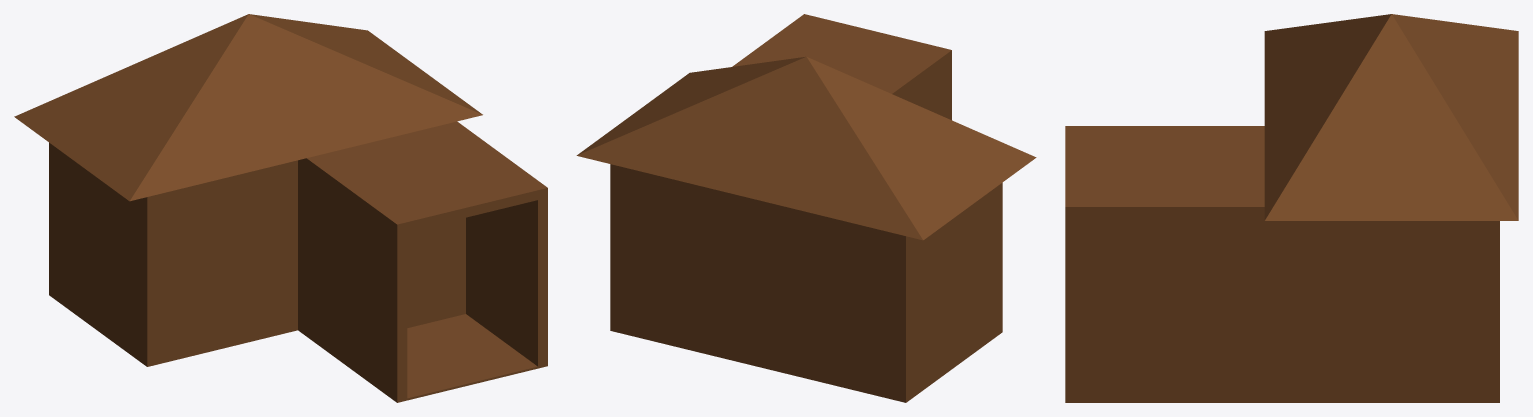
The model's file is house1.gltf.
3 views of the same model, side by side, from view 1: azimuth 30°, elevation 25°; view 2: azimuth 150°, elevation 25°; view 3: azimuth 270°, elevation 25° (orthographic). The views are drawn at different scales.
Visible parts, largest first — view 1: Cube.002; view 2: Cube.002; view 3: Cube.002.
Boxes of the visible parts, x1,y1,x2,y2 form: Cube.002: (14,14,547,402); Cube.002: (576,14,1036,402); Cube.002: (1065,14,1518,402).
Size of the model in its own units: 4.15 by 3.14 by 4.19.
